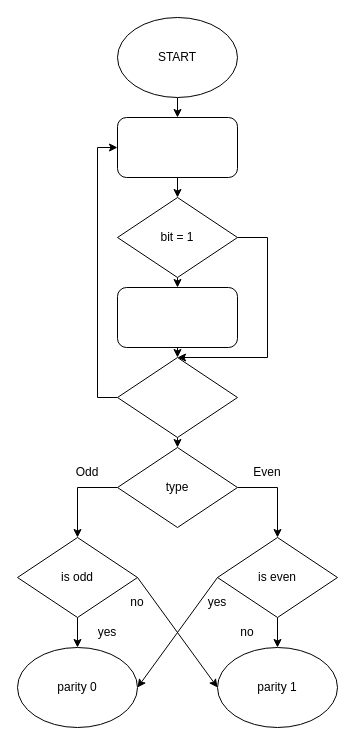
This 355x745 diagram has some shape labels left out. Each missing label, with the centre of its shape:
"counter++" belongs at (177,317).
"last bit" belongs at (177,397).
"set bit" belongs at (177,147).
